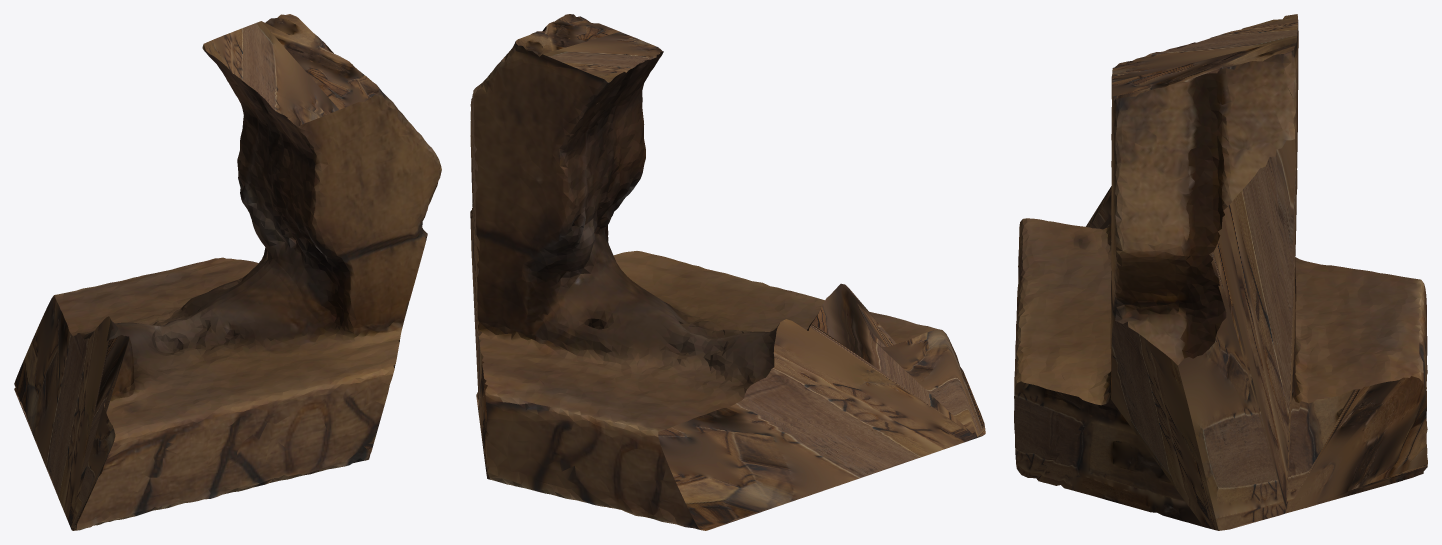
File: CenterBase.fbx
The picture shows the model from 3 angles, left to right: view 1: azimuth 30°, elevation 25°; view 2: azimuth 150°, elevation 25°; view 3: azimuth 270°, elevation 25°; orthographic projection. The views are drawn at different scales.
Parts seen in each view (by area): view 1: KLA-Or-10000_cell.002; view 2: KLA-Or-10000_cell.002; view 3: KLA-Or-10000_cell.002.
Boxes of the visible parts, left/top/right/bottom form: KLA-Or-10000_cell.002: left=14, top=14, right=441, bottom=530; KLA-Or-10000_cell.002: left=470, top=14, right=985, bottom=530; KLA-Or-10000_cell.002: left=1014, top=14, right=1427, bottom=530.
Size of the model in its own units: 61.35 by 51.22 by 43.11.
